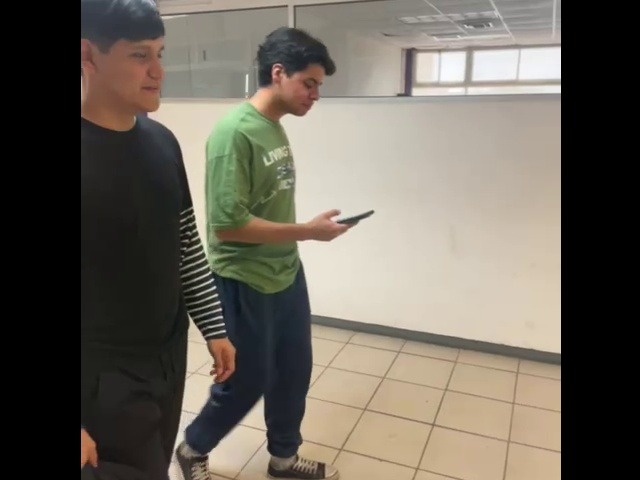mixto2: (327, 201, 377, 228)
